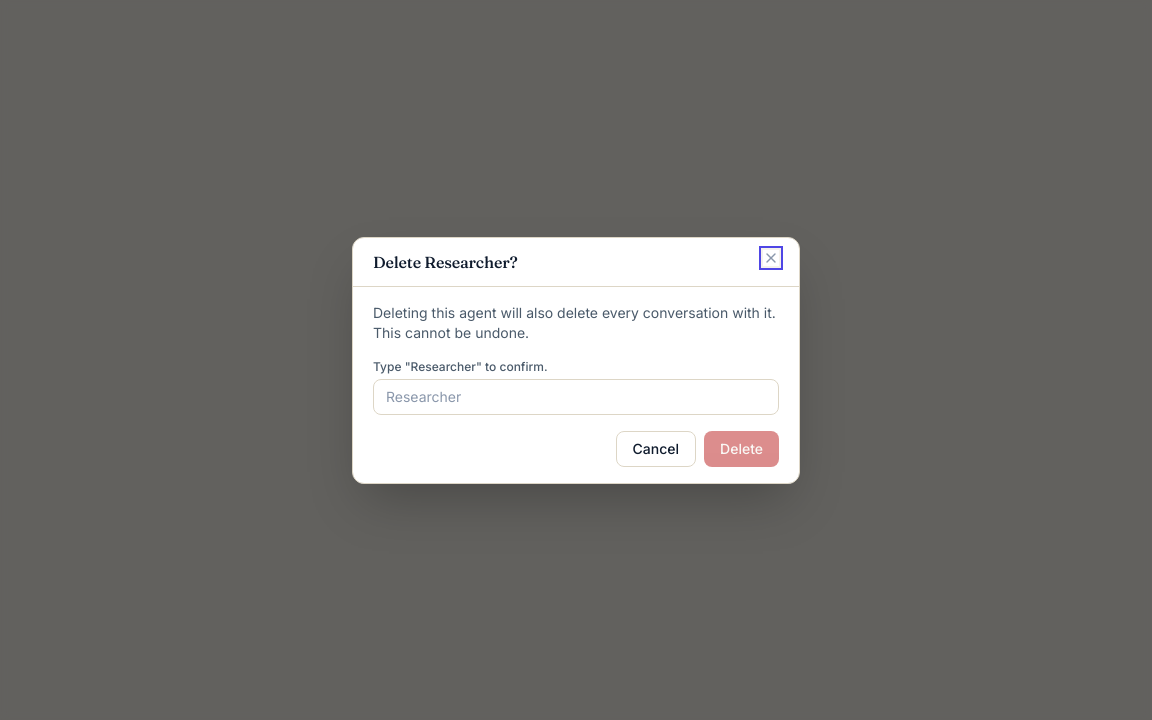
DeleteAgentDialog › Delete button is disabled until the agent name is typed exactly
The image size is (1152, 720).
Expected: the button "Delete" is disabled, top-left (704, 430), bottom-right (779, 466)
Type "Research" into the field labelled "Type \"Researcher\" to confirm." at (576, 396), box top-left (373, 378), bottom-right (779, 414)
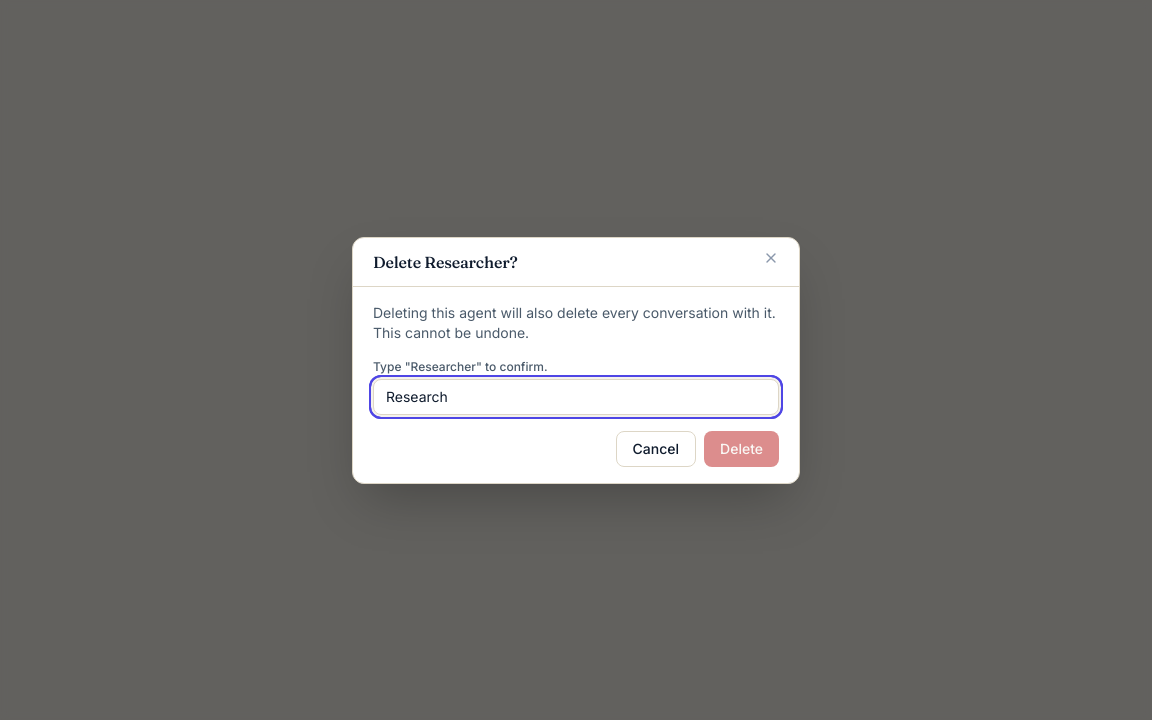
Expected: the button "Delete" is disabled, top-left (704, 430), bottom-right (779, 466)
Type "er" into the field labelled "Type \"Researcher\" to confirm." at (576, 396), box top-left (373, 378), bottom-right (779, 414)
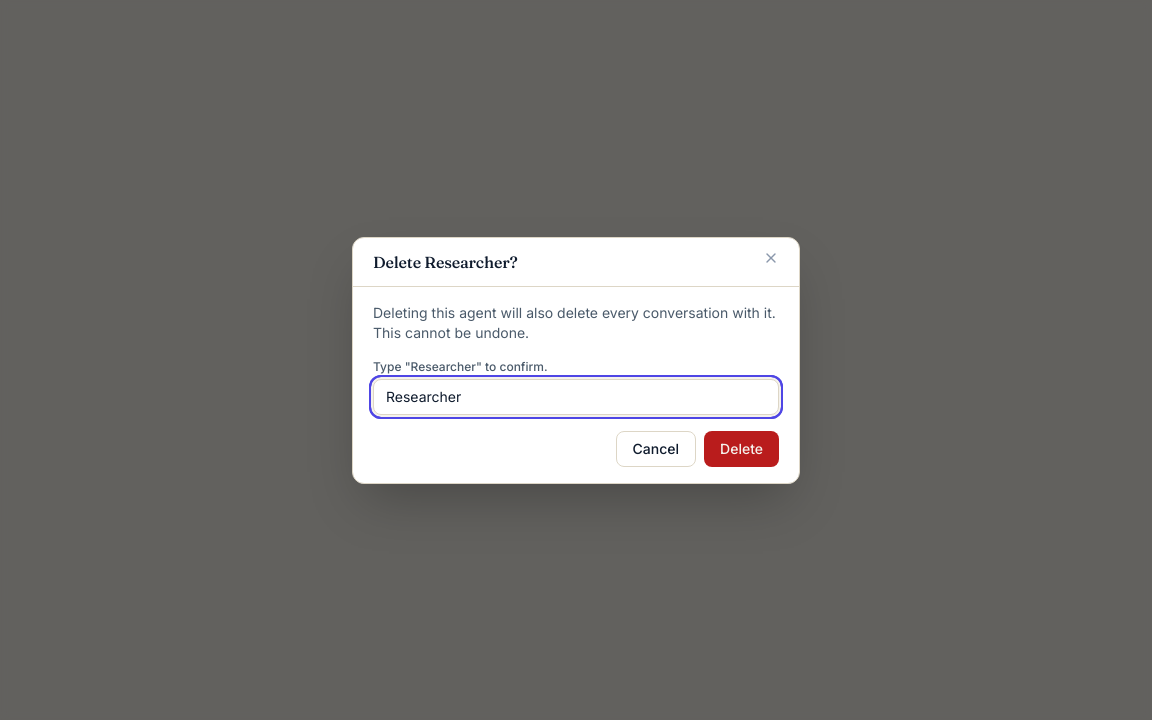
Expected: the button "Delete" is enabled, top-left (704, 430), bottom-right (779, 466)
Note: Mismatch resets disabled state.
Type "x" into the field labelled "Type \"Researcher\" to confirm." at (576, 396), box top-left (373, 378), bottom-right (779, 414)
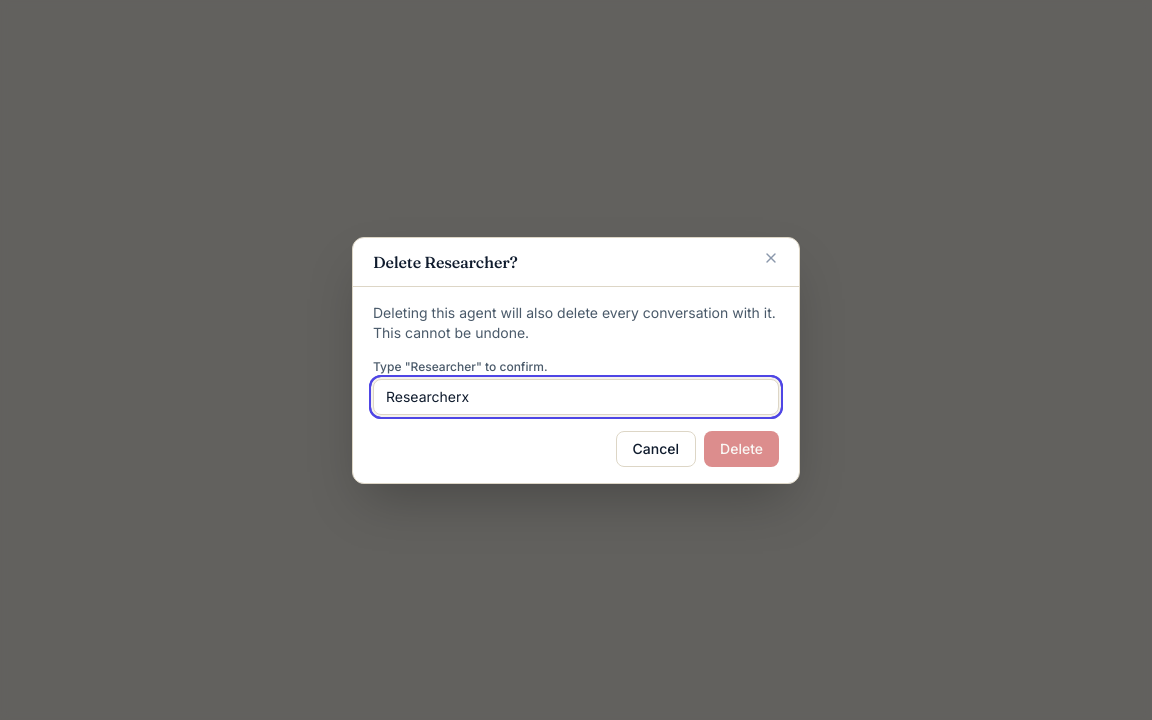
Expected: the button "Delete" is disabled, top-left (704, 430), bottom-right (779, 466)
